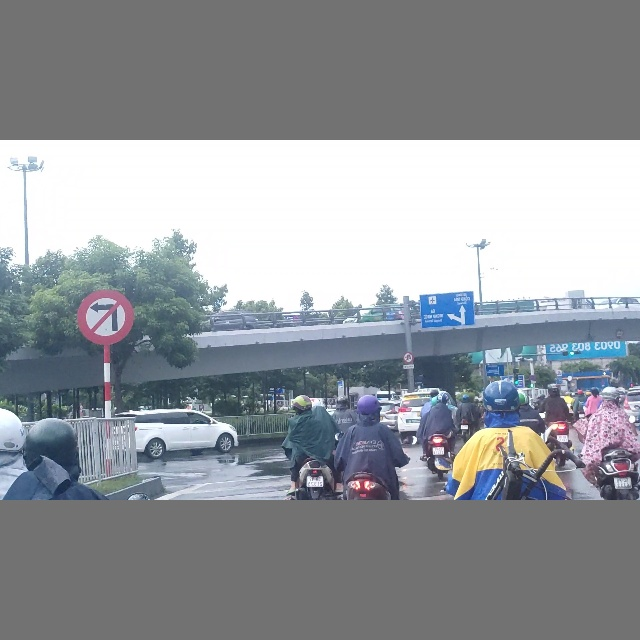P.123b: (76, 290, 135, 349)
P.124b1: (403, 352, 413, 363)
